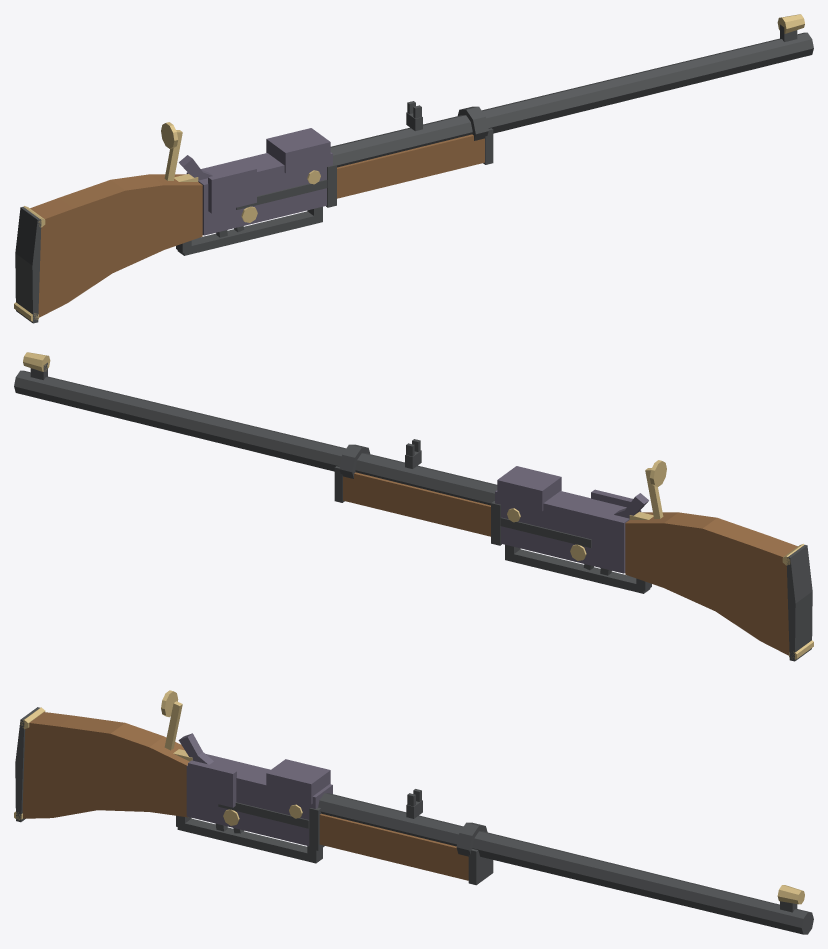
Rendered from sharps_1874.glb.
3 views of the same model, one above another, from view 1: azimuth 30°, elevation 25°; view 2: azimuth 150°, elevation 25°; view 3: azimuth 330°, elevation 25° (orthographic).
Parts seen in each view (by area): view 1: Sharps1874_geo; view 2: Sharps1874_geo; view 3: Sharps1874_geo.
Boxes of the visible parts, x1=… form: Sharps1874_geo: x1=14, y1=14, x2=813, y2=323; Sharps1874_geo: x1=14, y1=352, x2=813, y2=661; Sharps1874_geo: x1=14, y1=690, x2=813, y2=934.
Bounding box in the file's own units: 1.22 × 0.2341 × 0.058.
